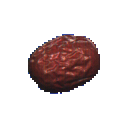gd: (13, 16, 111, 121)
